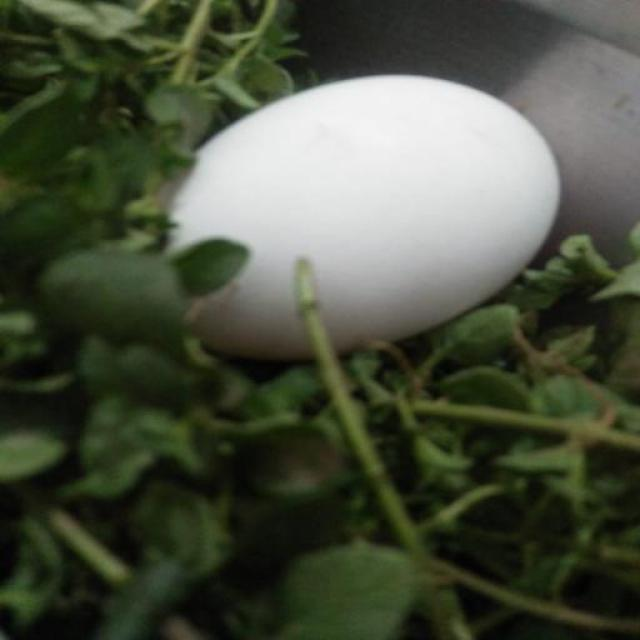telur: (160, 74, 559, 356)
